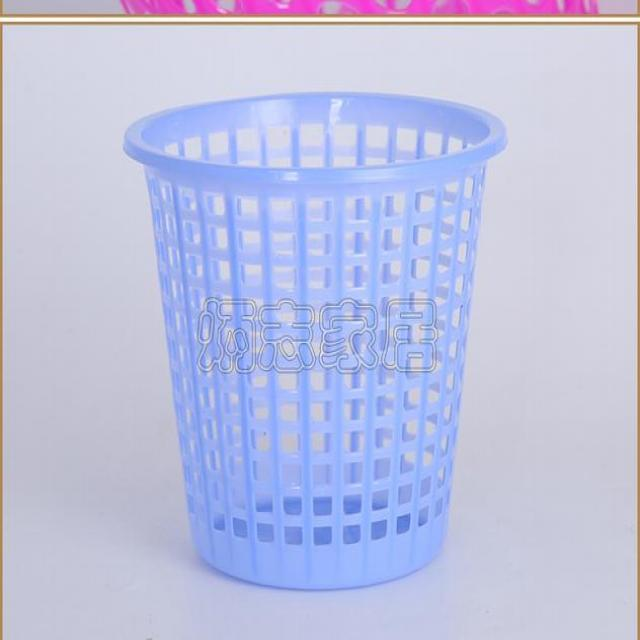Dustbin: (120, 85, 513, 596)
